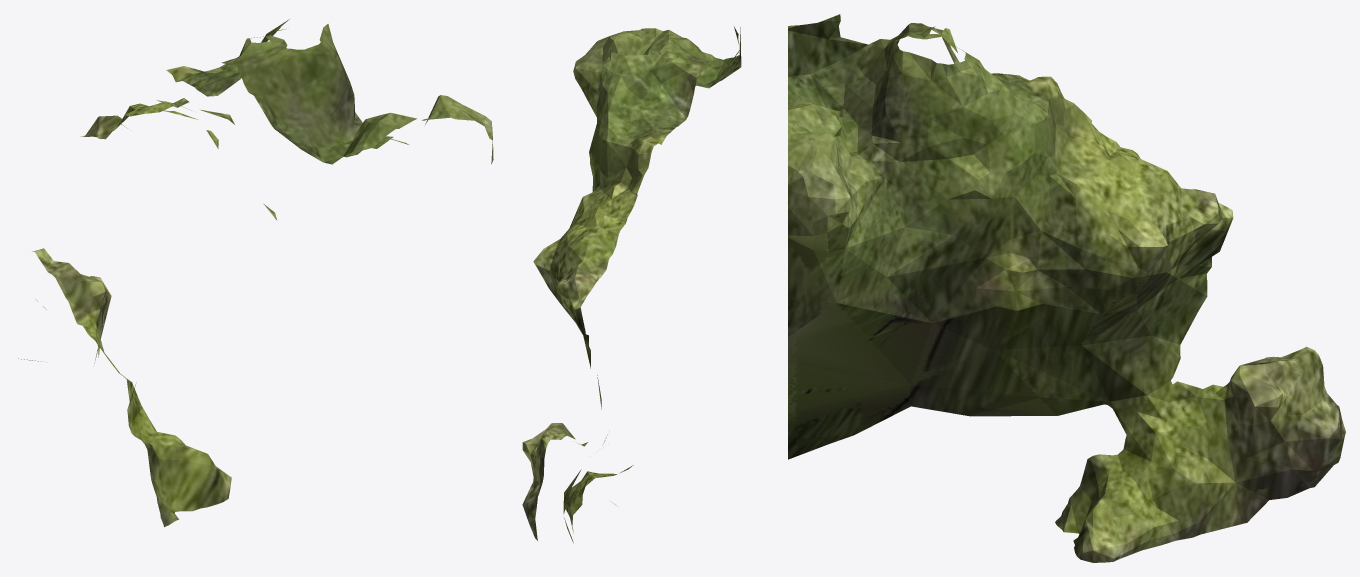
3 views of the same model, side by side, from view 1: azimuth 30°, elevation 25°; view 2: azimuth 150°, elevation 25°; view 3: azimuth 270°, elevation 25° (orthographic). The views are drawn at different scales.
Size of the model in its own units: 2.52 by 5.9 by 5.86.
2 materials, 2 textured.
